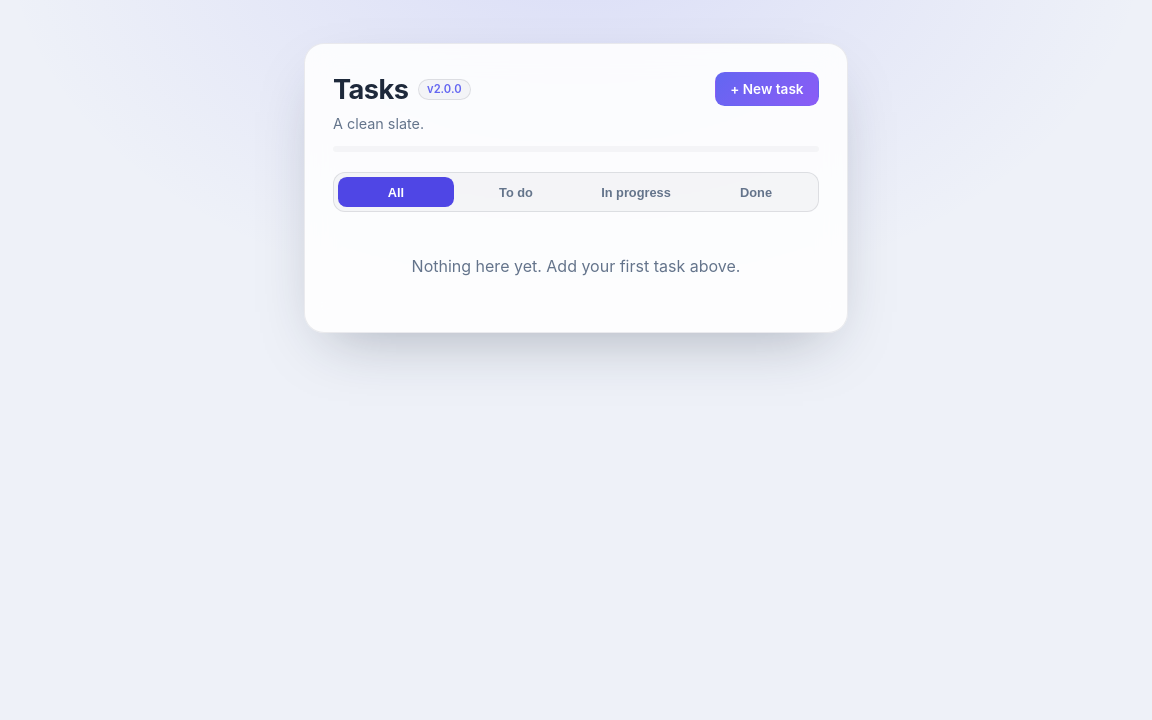
Test: App › creating & editing › creates a task with a description via the modal
Expected: the text "Nothing here yet. Add your first task above." is shown, [412, 256, 740, 276]
Click the button "+ New task": (767,89) [715, 72, 819, 106]
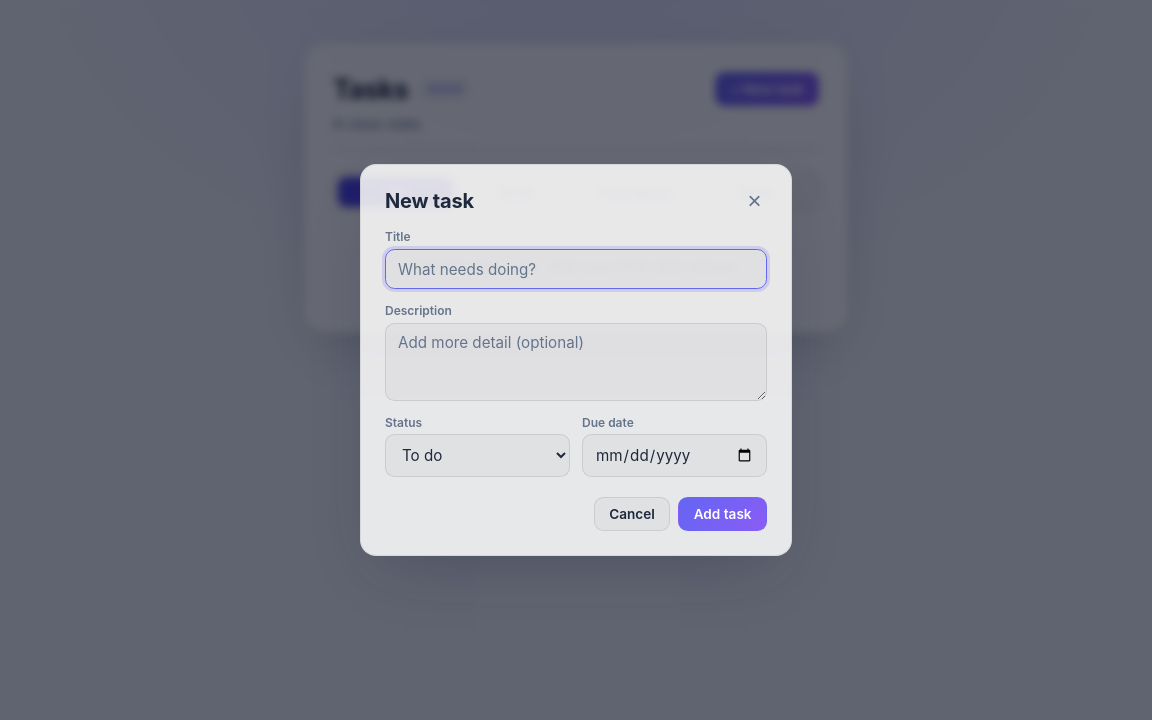
In the field named "task title": (576,269) [385, 249, 767, 289], type "Write the pipeline"
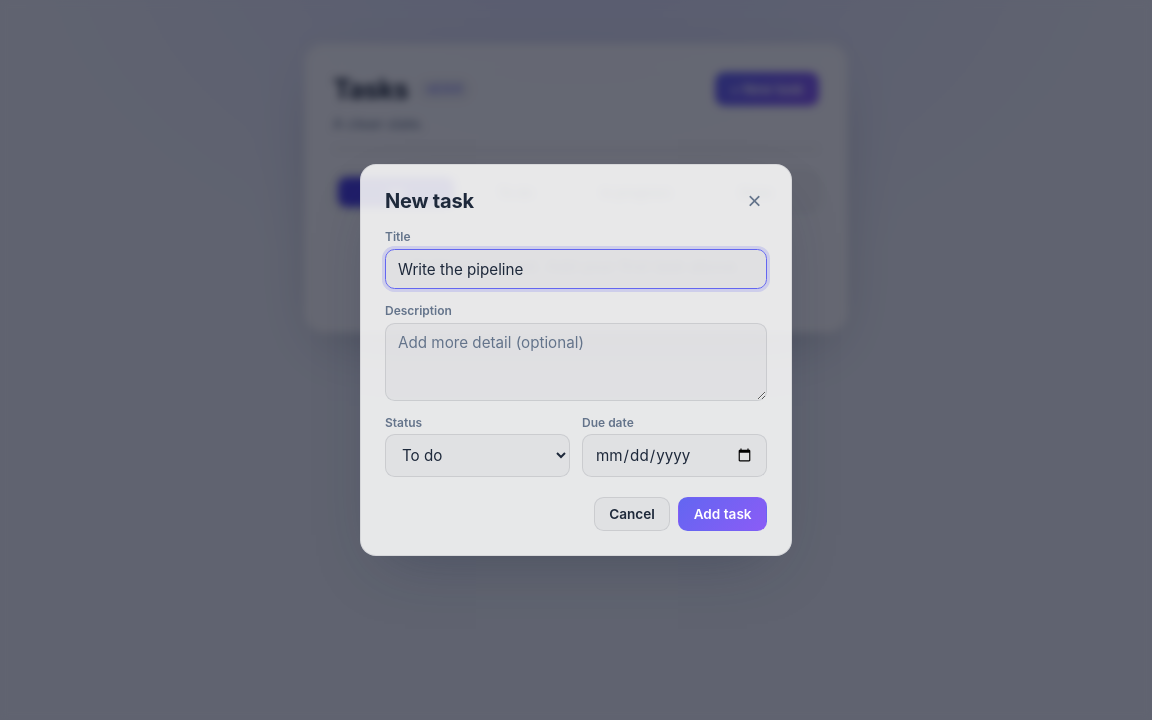
In the text box named "task description": (576,362) [385, 323, 767, 401], type "green build please"
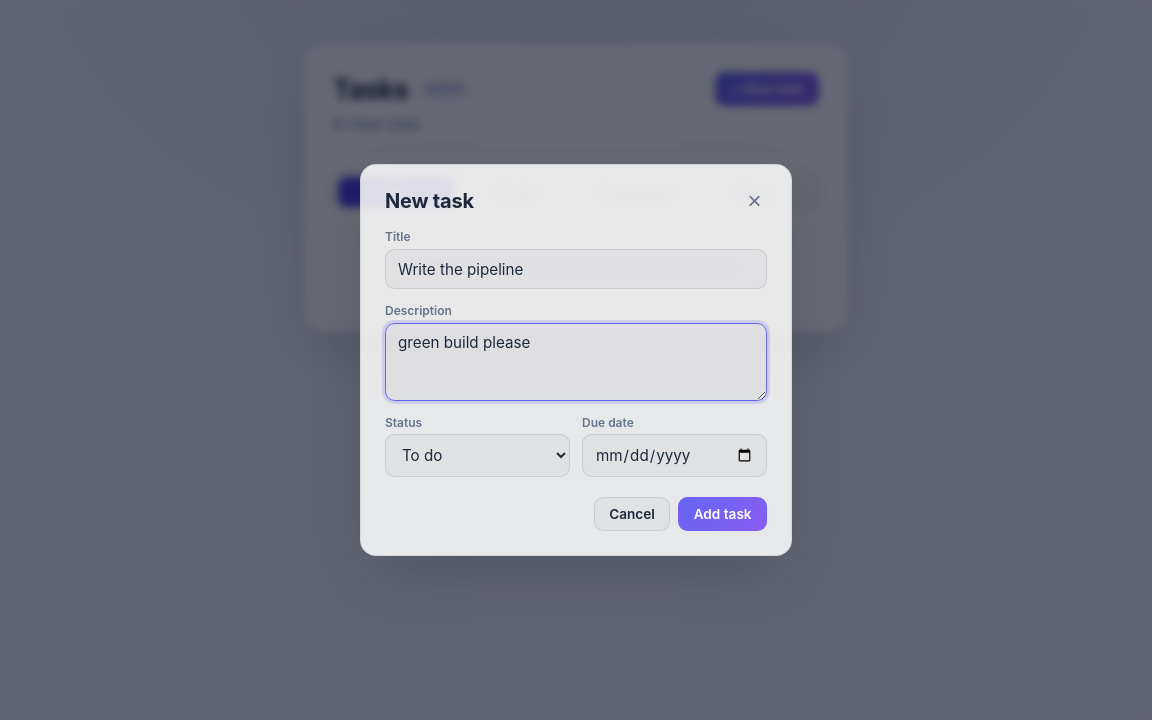
Click the button "Add task": (723,514) [678, 497, 767, 531]
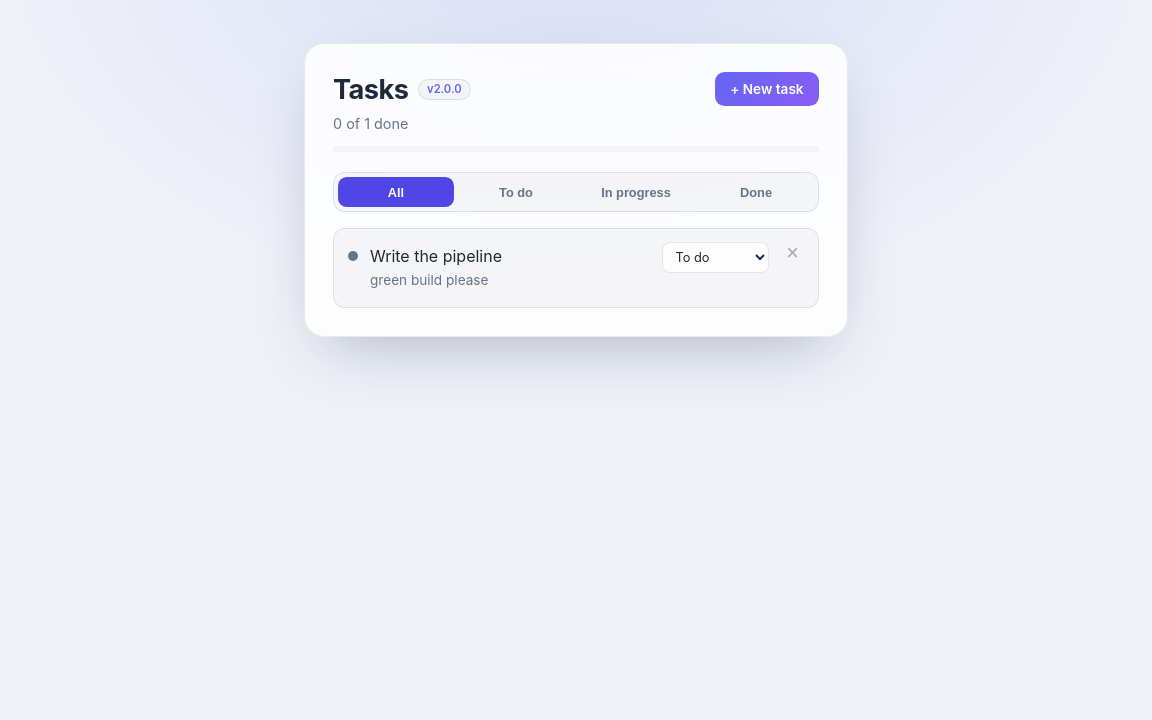
Result: the text "Write the pipeline" is shown at [370, 246, 502, 267]
Result: the text "green build please" is shown at [370, 271, 488, 290]
